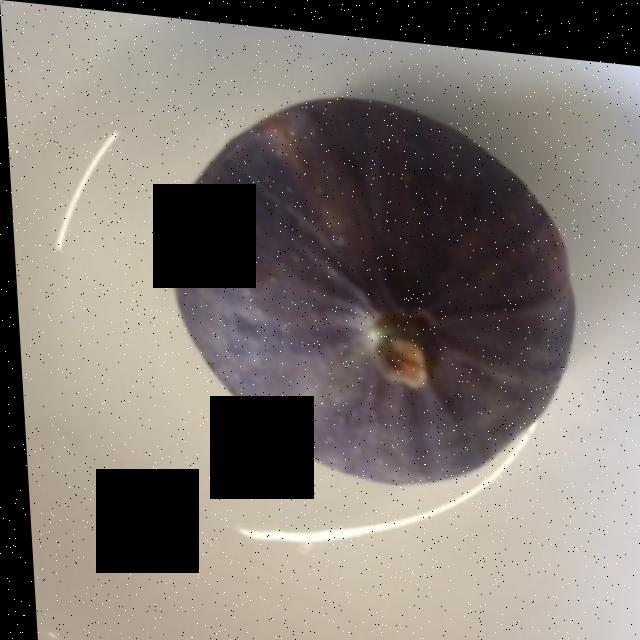figs: (176, 97, 570, 475)
